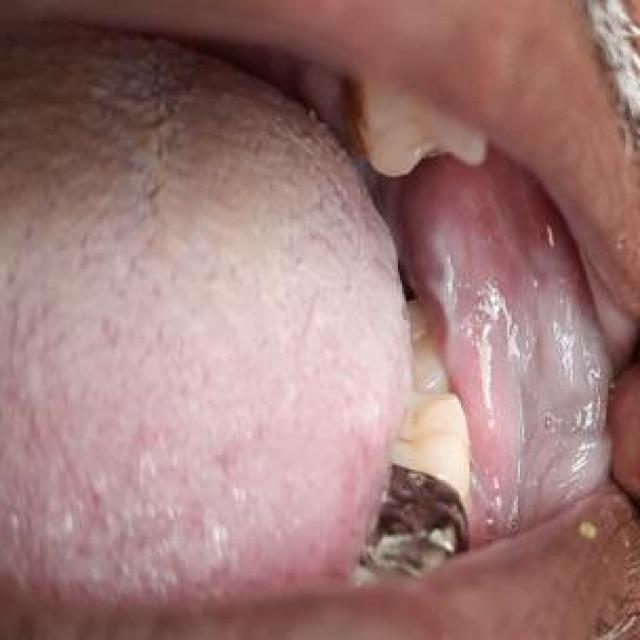leukoplakia-detection: (507, 248, 610, 527)
processing_area: (8, 26, 411, 596), (404, 162, 612, 544)
